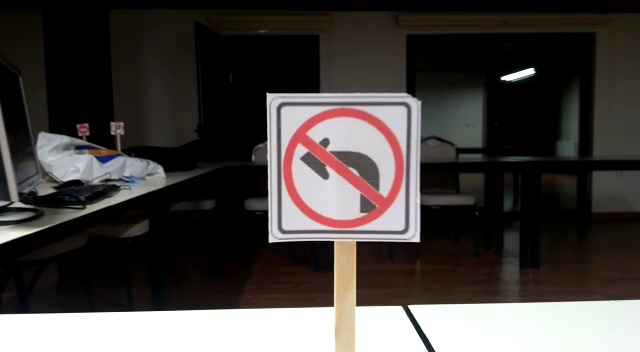sola_donulmez: (281, 105, 419, 233)
